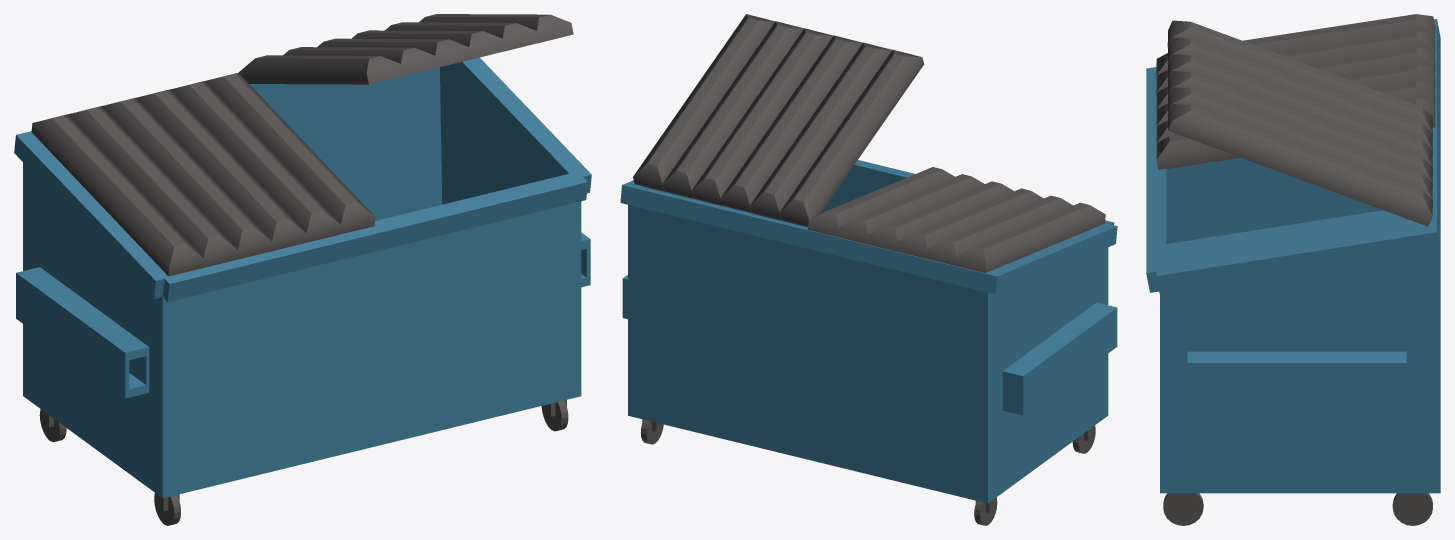
Rendered from dumpster.fbx.
The picture shows the model from 3 angles, left to right: view 1: azimuth 30°, elevation 25°; view 2: azimuth 150°, elevation 25°; view 3: azimuth 270°, elevation 25°; orthographic projection. The views are drawn at different scales.
Parts seen in each view (by area): view 1: pCube1, pCube15, pCube2, pCube6, pCube4, pCube3, pCube7, pCube5, pCube8, pCube10, pCube9, pCube12 (+2 smaller); view 2: pCube1, pCube8, pCube15, pCube12, pCube10, pCube9, pCube11, pCube13, pCube2, pCube6, pCube4, pCube3 (+2 smaller); view 3: pCube1, pCube14, pCube12, pCube9, pCube8, pCube10, pCube13, pCube11, pCube2, pCube3, pCube4, pCube7 (+4 smaller).
Part boxes in pixels (x1,y1,x2,y2): pCube1: (14,57,591,498); pCube15: (16,267,149,398); pCube2: (31,114,203,276); pCube6: (170,81,341,242); pCube4: (101,97,272,259); pCube3: (67,106,238,267); pCube7: (205,72,375,234); pCube5: (136,89,306,250); pCube8: (238,55,403,84); pCube10: (317,38,471,67); pCube9: (283,47,437,75); pCube12: (419,14,573,43); pCube1: (620,160,1117,503); pCube8: (779,49,924,226); pCube15: (1002,302,1117,415); pCube12: (633,14,775,191); pCube10: (721,35,862,212); pCube9: (750,42,891,219); pCube11: (692,28,832,205); pCube13: (662,21,803,198); pCube2: (956,202,1105,272); pCube6: (838,174,984,244); pCube4: (897,188,1043,258); pCube3: (926,195,1072,265); pCube1: (1146,19,1440,493); pCube14: (1187,351,1406,408); pCube12: (1168,104,1432,226); pCube9: (1167,37,1432,149); pCube8: (1167,20,1432,132); pCube10: (1167,54,1432,166); pCube13: (1167,87,1432,199); pCube11: (1168,71,1432,182); pCube2: (1156,14,1435,75); pCube3: (1156,30,1435,92); pCube4: (1156,47,1435,109); pCube7: (1156,98,1435,169).
Bounding box in the file's own units: 10.59 × 8.96 × 5.78.
